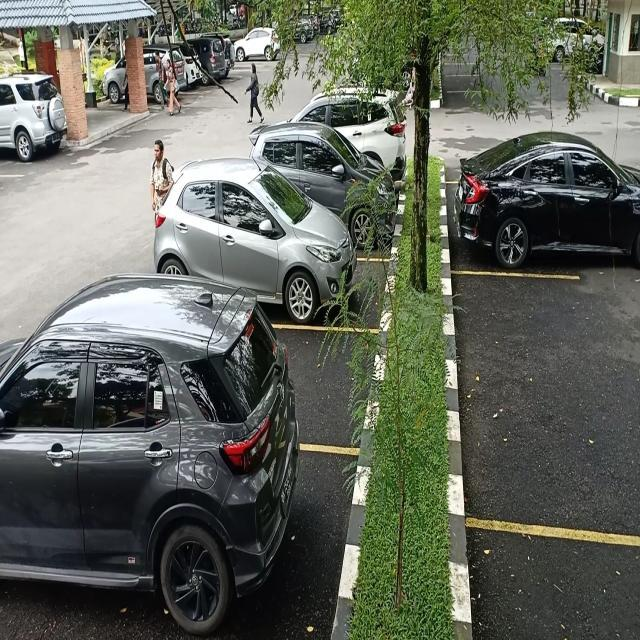empty: (470, 271, 640, 542)
occupied: (453, 165, 640, 278), (254, 228, 366, 332)
